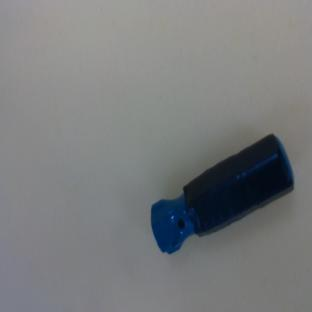part_2_bad: (137, 132, 303, 258)
